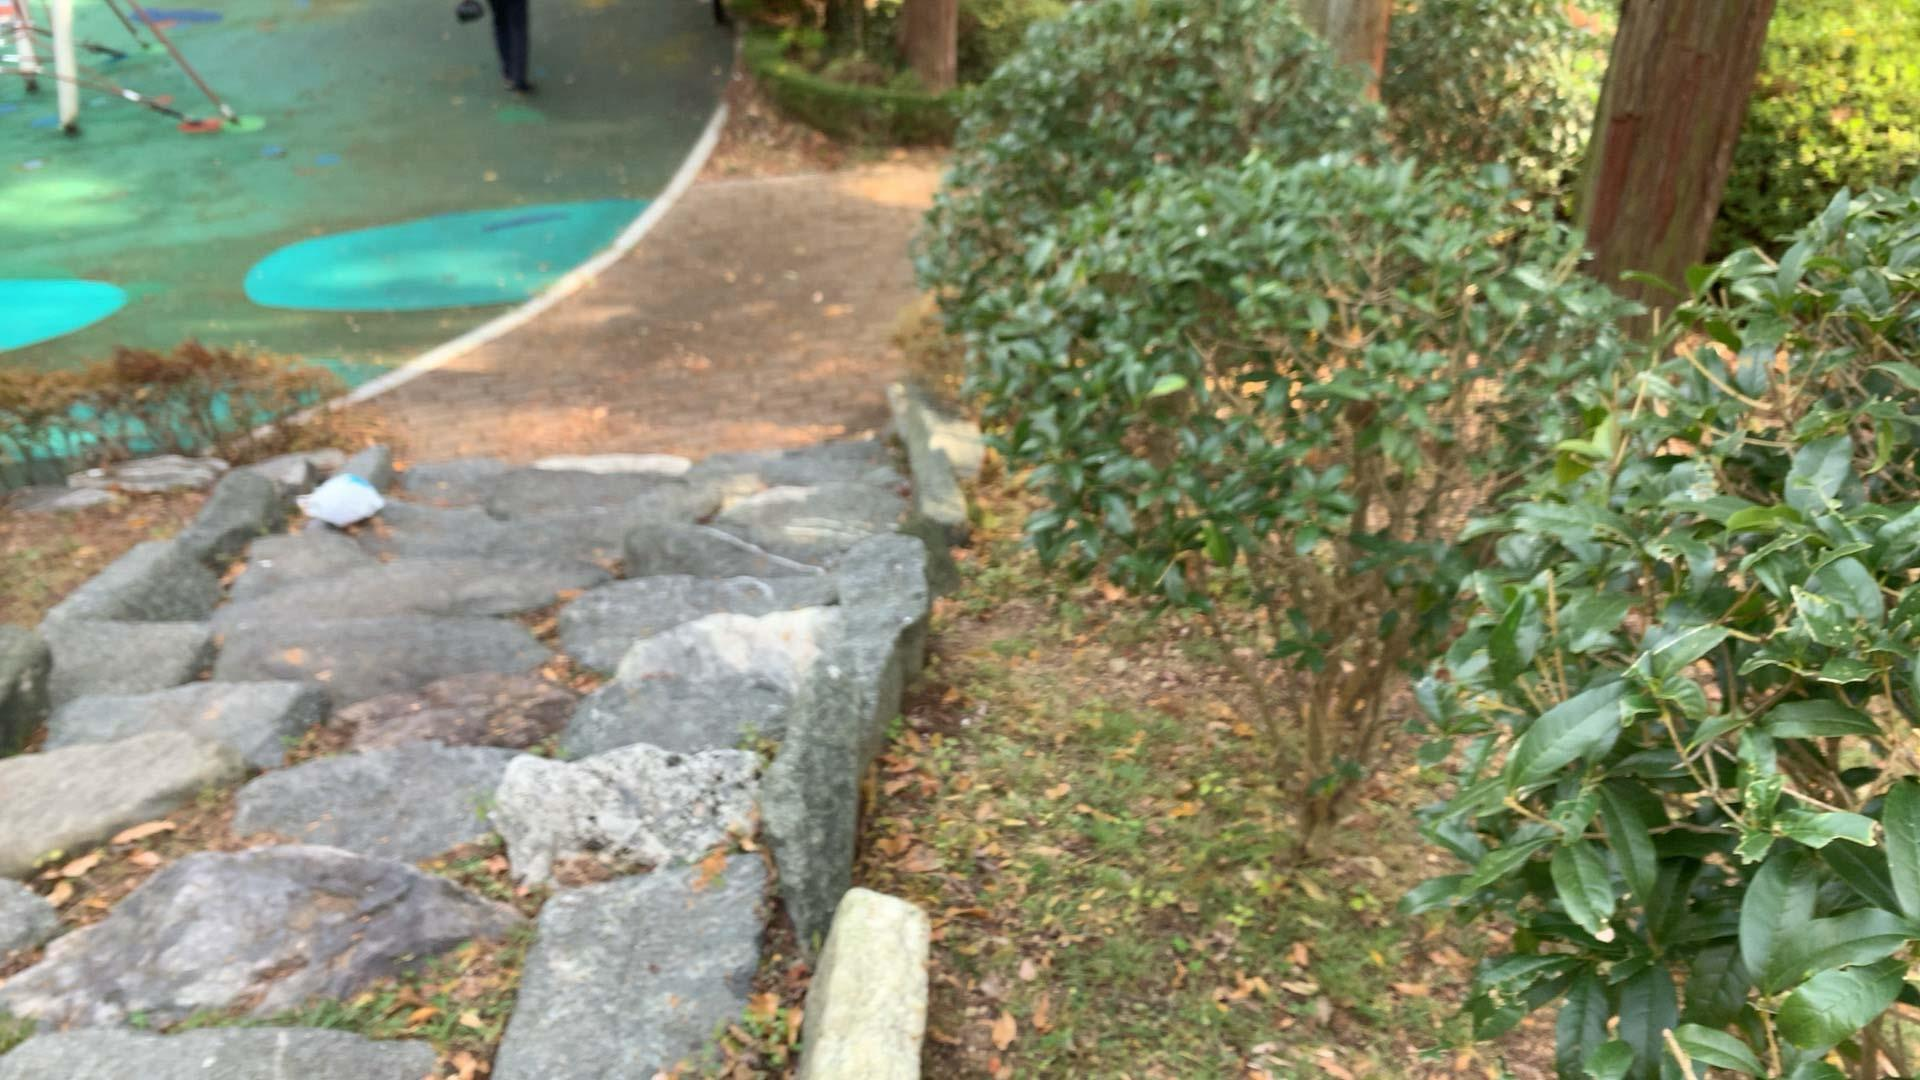white_bag: (287, 468, 385, 533)
